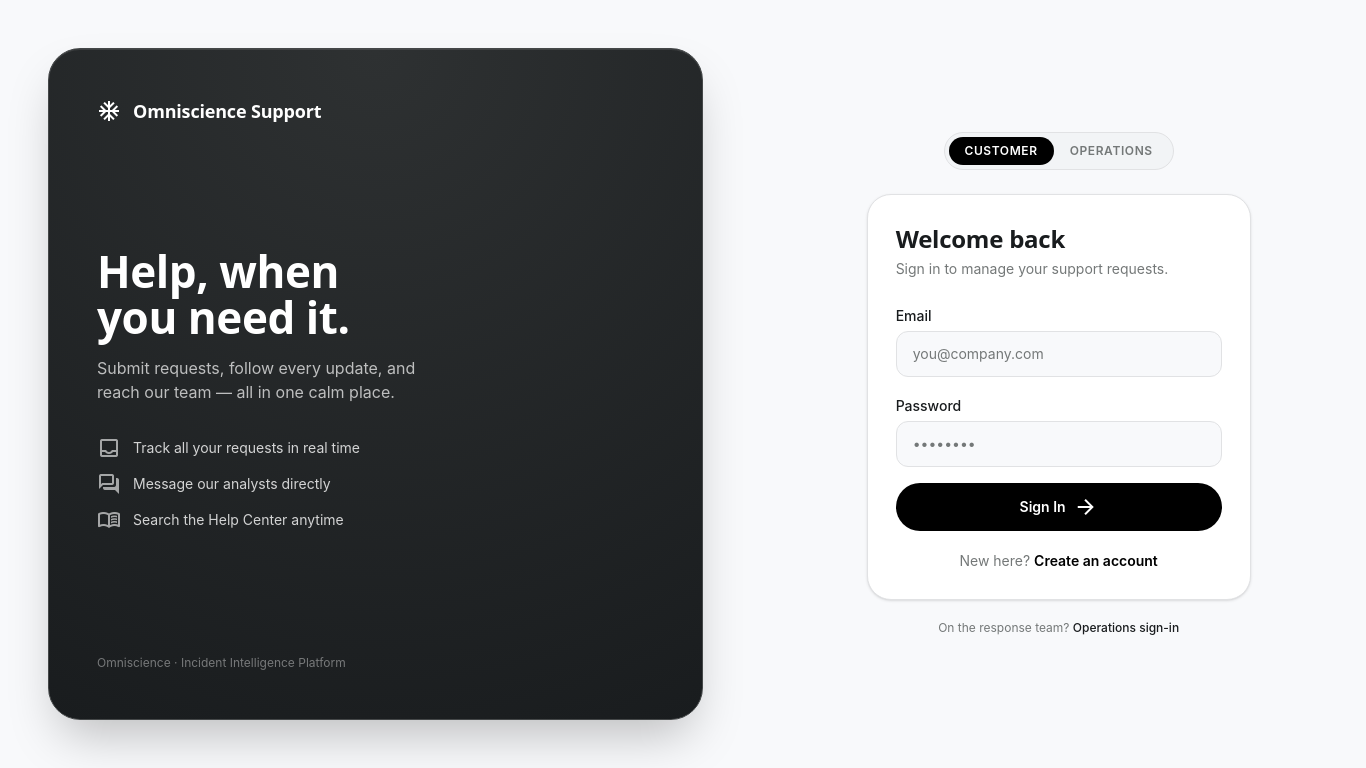
Scenario: LoginPage › shows an error when credentials are rejected
This screenshot has width=1366, height=768.
Type "customer@ims.com" into the field labelled "Email". click: coordinates (1059, 354)
box: x1=896 y1=331 x2=1222 y2=377
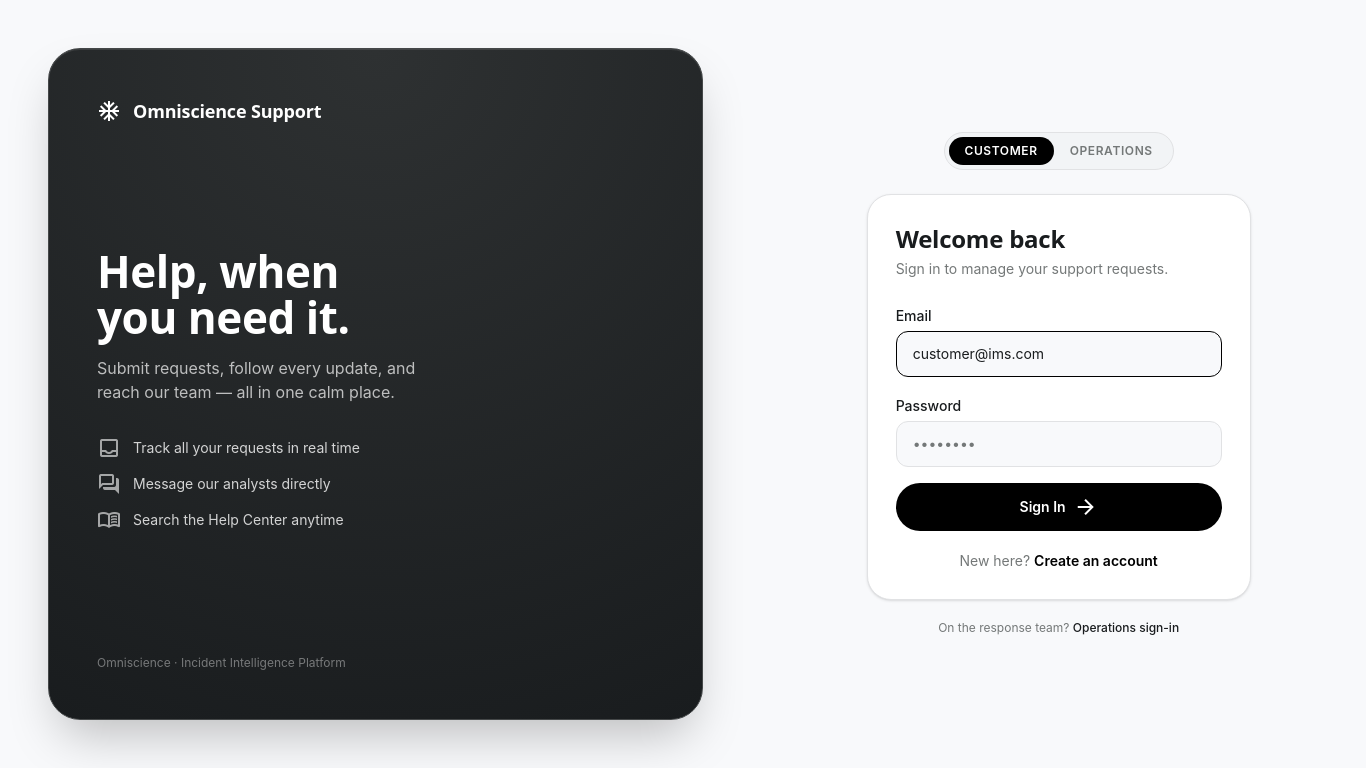
Type "wrong" into the password field labelled "Password". click: coordinates (1059, 444)
box: x1=896 y1=421 x2=1222 y2=467
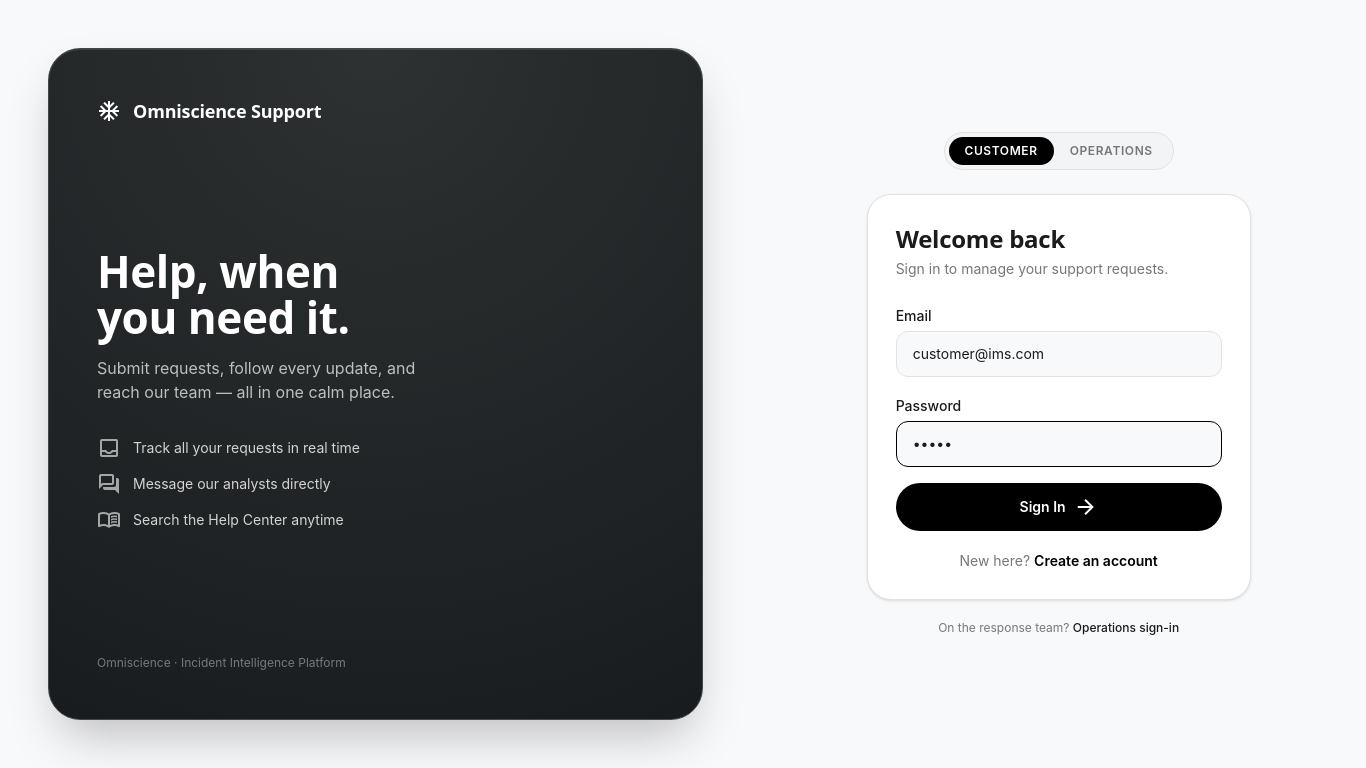
Click the button "Sign In". click: coordinates (1059, 507)
box: x1=896 y1=483 x2=1222 y2=531
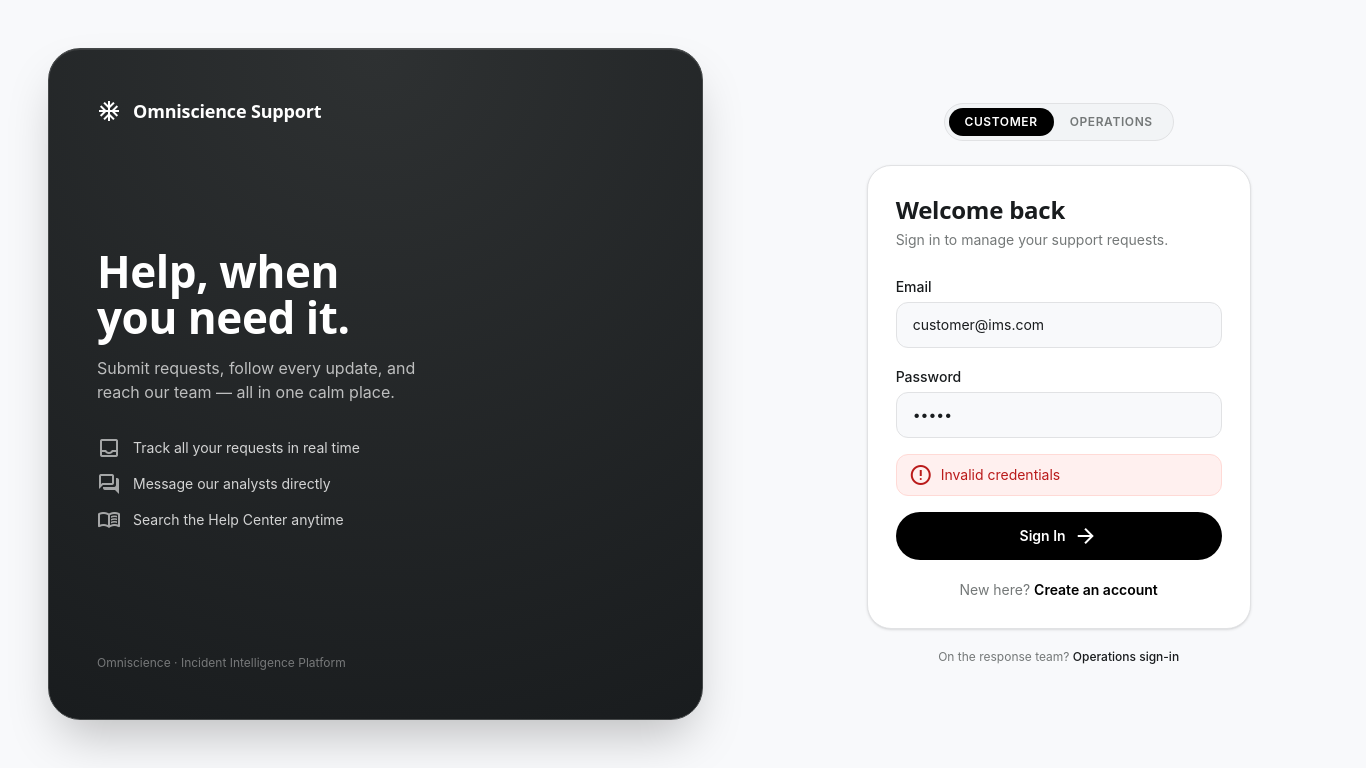
Expected: the message reads "Invalid credentials", x1=941 y1=466 x2=1060 y2=483
